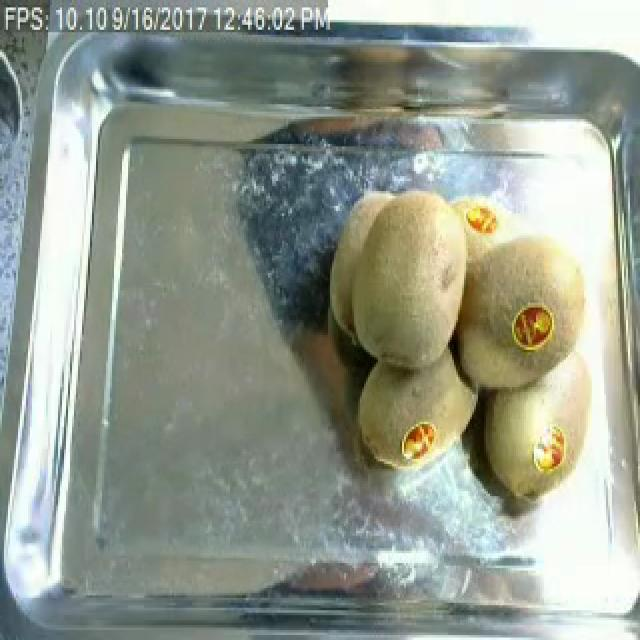Fruit: (316, 176, 480, 377), (348, 342, 490, 479), (506, 298, 564, 370)
